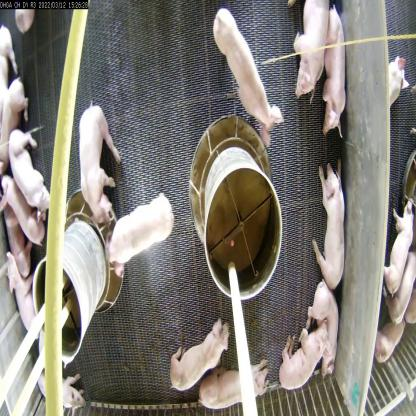Pig: (212, 7, 280, 138), (76, 103, 120, 229), (107, 188, 174, 268), (314, 157, 350, 289), (200, 354, 268, 415), (318, 7, 349, 140), (290, 0, 330, 103), (8, 126, 50, 218), (0, 168, 47, 250), (174, 318, 223, 394), (6, 257, 40, 362), (278, 324, 330, 392), (308, 277, 341, 384), (1, 194, 35, 288), (0, 76, 29, 165)
